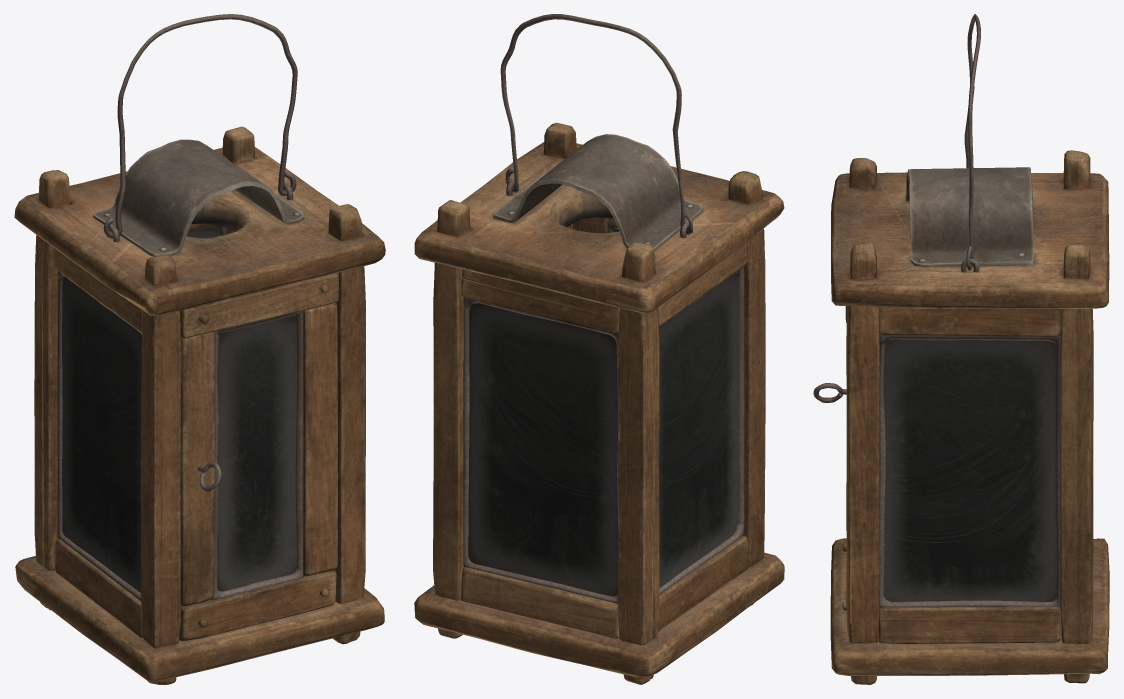
Rendered from wooden_lantern_01.glb.
The picture shows the model from 3 angles, left to right: view 1: azimuth 30°, elevation 25°; view 2: azimuth 150°, elevation 25°; view 3: azimuth 270°, elevation 25°; orthographic projection.
Parts seen in each view (by area): view 1: wooden_lantern_01, wooden_lantern_01_door, wooden_lantern_01_handle; view 2: wooden_lantern_01, wooden_lantern_01_handle, wooden_lantern_01_door; view 3: wooden_lantern_01, wooden_lantern_01_handle, wooden_lantern_01_door.
Boxes of the visible parts, bbox=[...] form: wooden_lantern_01: bbox=[14, 126, 385, 684]; wooden_lantern_01_door: bbox=[179, 272, 339, 641]; wooden_lantern_01_handle: bbox=[103, 14, 297, 238]; wooden_lantern_01: bbox=[414, 122, 784, 684]; wooden_lantern_01_handle: bbox=[500, 14, 692, 234]; wooden_lantern_01_door: bbox=[573, 217, 618, 233]; wooden_lantern_01: bbox=[830, 150, 1109, 684]; wooden_lantern_01_handle: bbox=[964, 14, 980, 270]; wooden_lantern_01_door: bbox=[813, 306, 847, 610].
Size of the model in its own units: 0.221 by 0.5301 by 0.2347.
2 materials, 2 textured.
